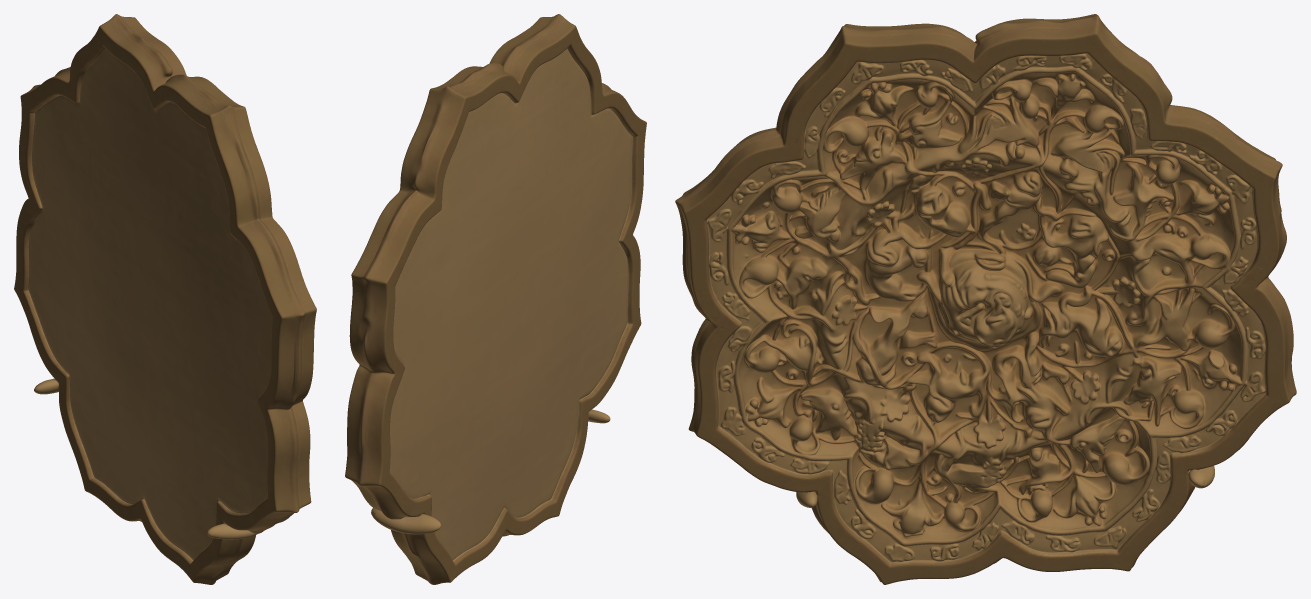
Rendered from jinbei-ruishou-putao-mirror.glb.
The picture shows the model from 3 angles, left to right: view 1: azimuth 30°, elevation 25°; view 2: azimuth 150°, elevation 25°; view 3: azimuth 270°, elevation 25°; orthographic projection. The views are drawn at different scales.
Bounding box in the file's own units: 0.1439 × 1 × 0.9945.
Materials: 1 (1 with a texture image).
